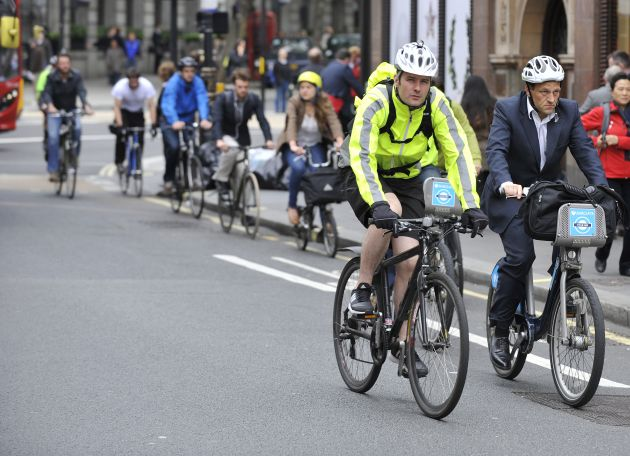with_helmet: (394, 42, 441, 77), (521, 56, 565, 85)
